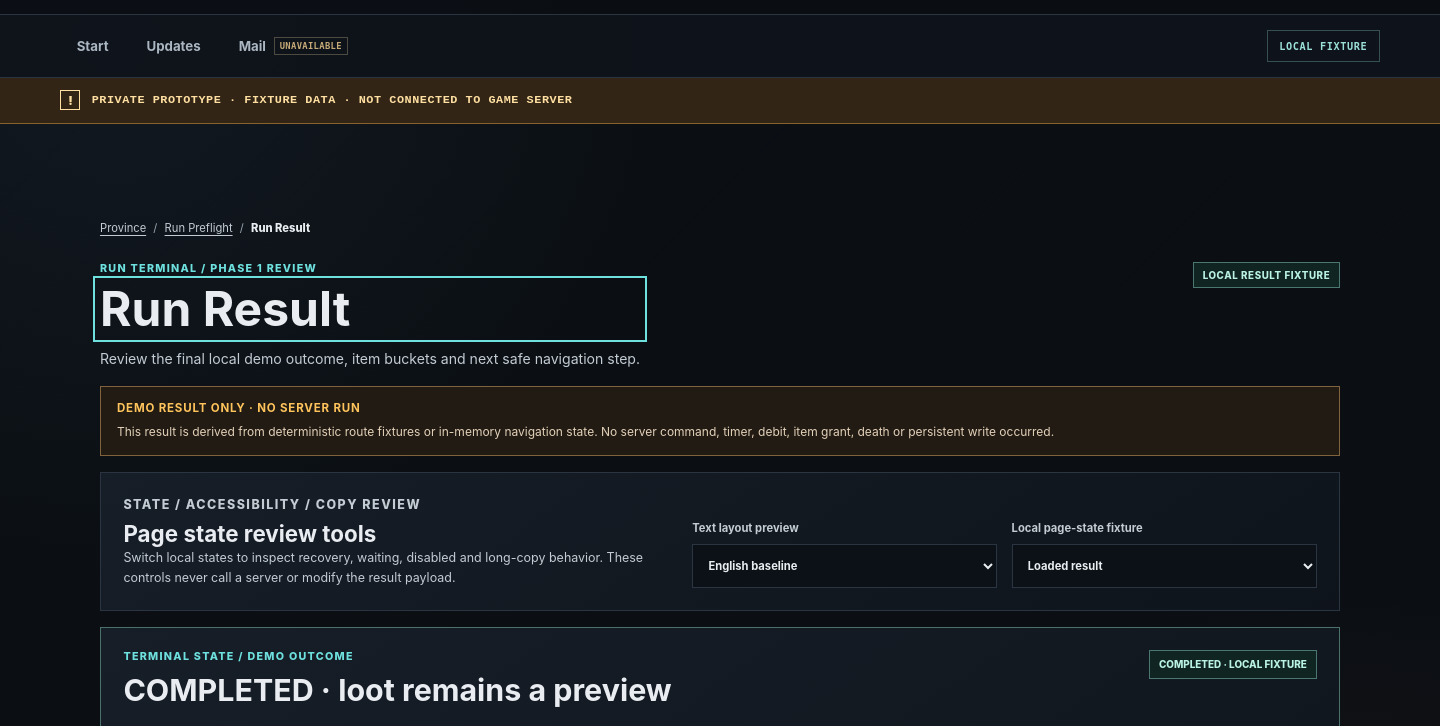
Test case: P1-UI-008 Run Result, accessible recovery states and localization › can pseudo-expand the terminal copy without changing outcome data or stable identifiers
The width and height of the screenshot is (1440, 726).
Select "Pseudo-expanded copy" in the dropdown with test id "result-text-mode" at x=845, y=566, box [692, 544, 997, 588]
(page scrolled)
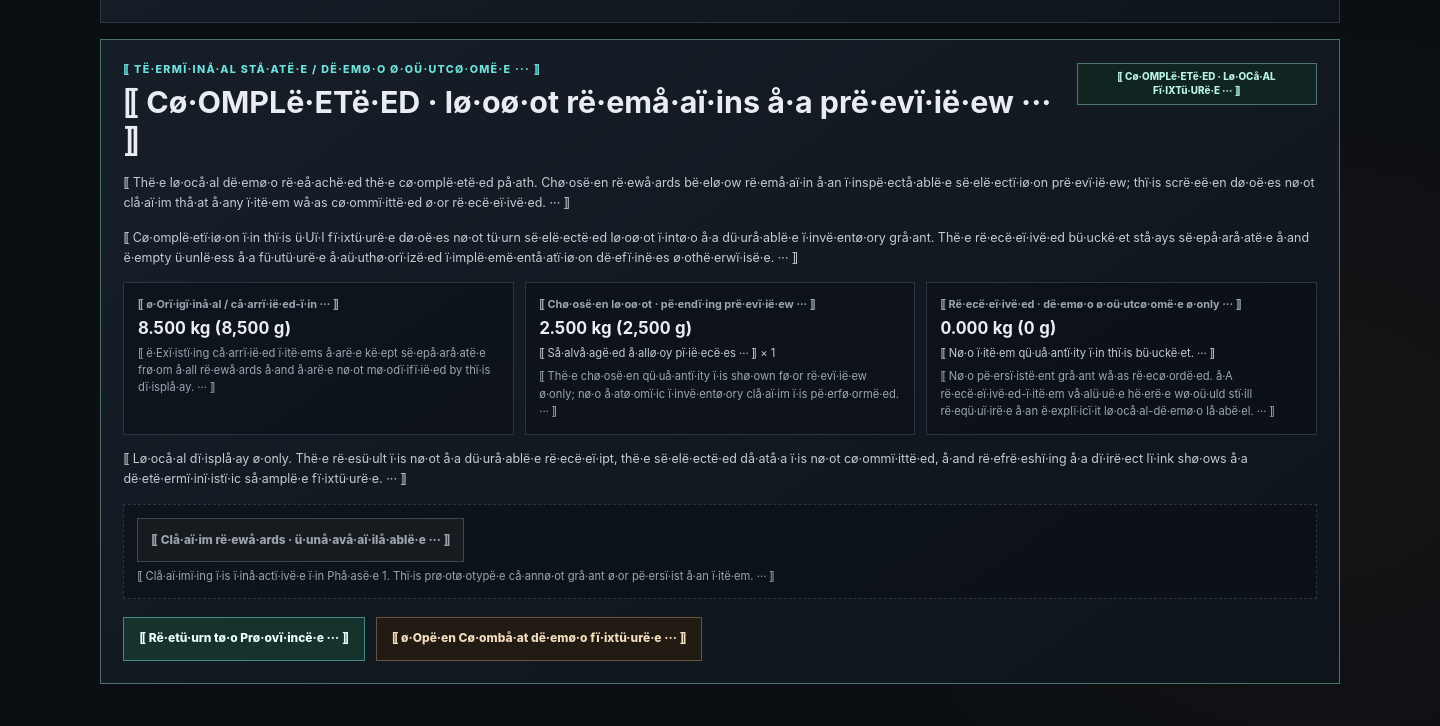
Check: the text with test id "result-chosen-weight" reads "2.500 kg (2,500 g)", box [539, 318, 692, 338]
Check: the heading with test id "result-outcome-title" shows "⟦", box [123, 84, 1052, 158]
